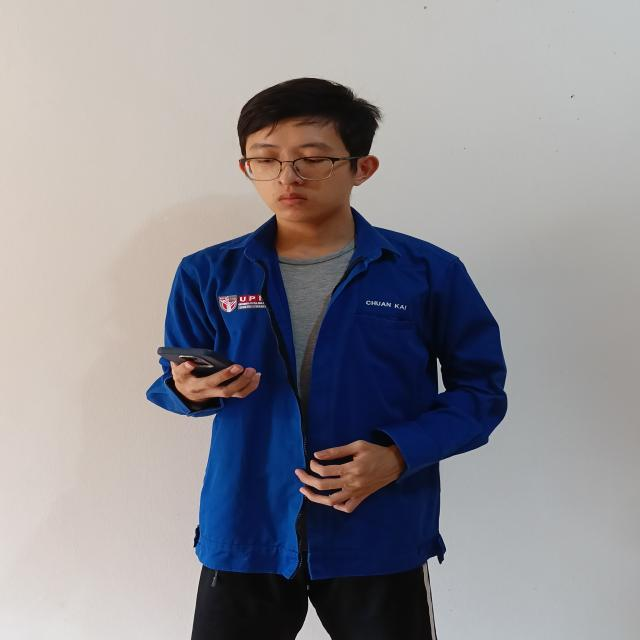person_with_labcoat: (147, 78, 506, 640)
